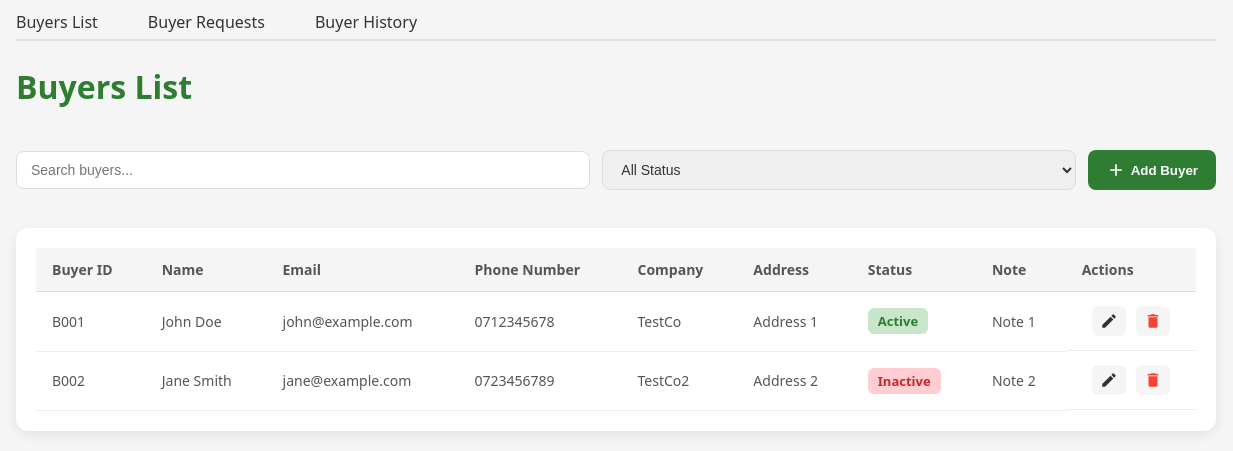
Test: BuyersList Component › filters buyers by status
Expected: the text "John Doe" is shown, [146,292,266,351]
Select "Inactive" in the dropdown showing "All Status" at point(839, 170), box [602,150,1076,190]
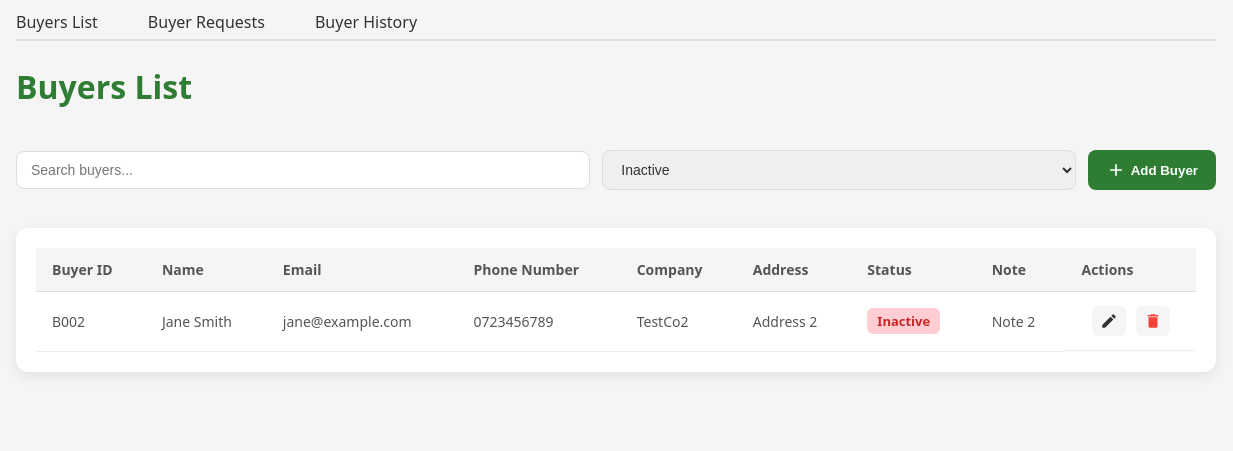
Expected: the text "Jane Smith" is shown, [146,292,267,351]
Expected: the text "John Doe" is gone
